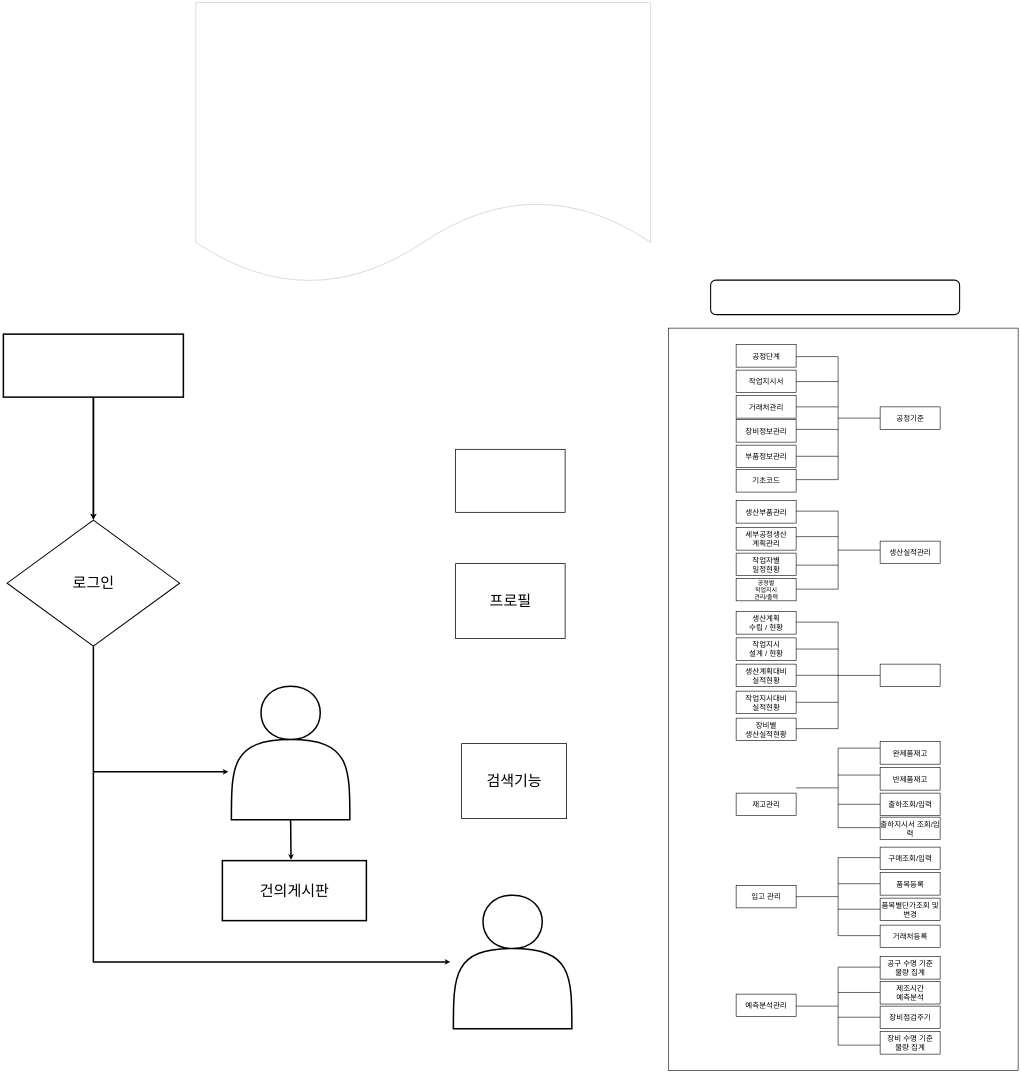
The diagram is 1021 pixels wide and 1074 high, and some of its shapes have lost their labels. Here are the shapes that lost their labels. From the top down, the centre of each, then its label:
At point (423, 143): "구민 : 메인 , 모니터링 민영 : 프로필 , 로그인 , 모니터링 은별 : 재고 , 입고 의건 : 공정, 예측 지훈 : 생산계획, 생산실적".
At point (835, 297): "공정 관리 시스템".
At point (93, 365): "로그인 페이지".
At point (510, 481): "모니터링".
At point (910, 675): "생산 계획관리".
At point (291, 752): "사원".
At point (513, 961): "관리자".
